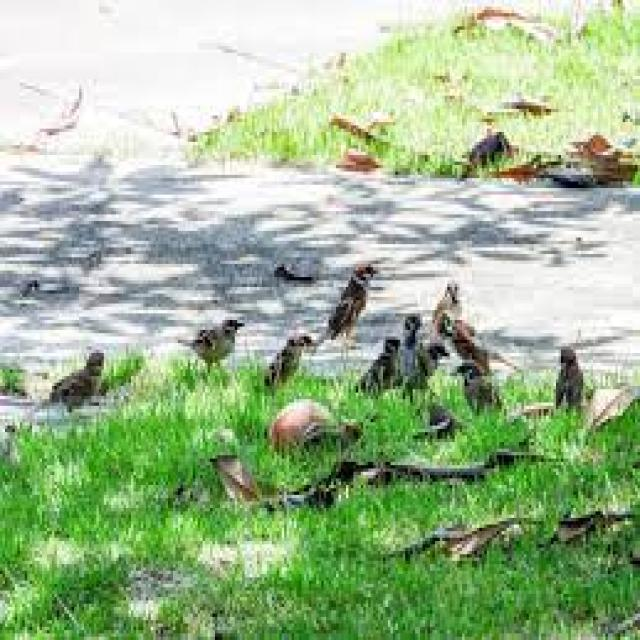bird: (28, 352, 106, 414), (324, 260, 378, 344), (177, 316, 242, 369), (261, 334, 311, 386)
